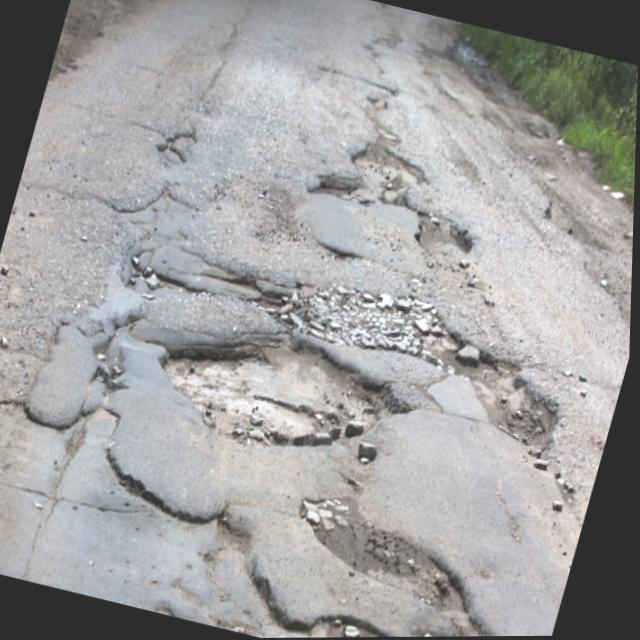pothole: (162, 348, 407, 448)
